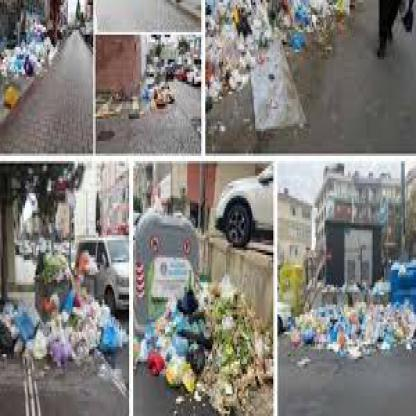Garbage: (209, 0, 358, 50), (30, 302, 130, 376), (206, 0, 255, 109), (302, 307, 414, 354), (169, 297, 212, 386), (142, 322, 194, 379), (2, 305, 44, 364), (2, 32, 52, 74)
